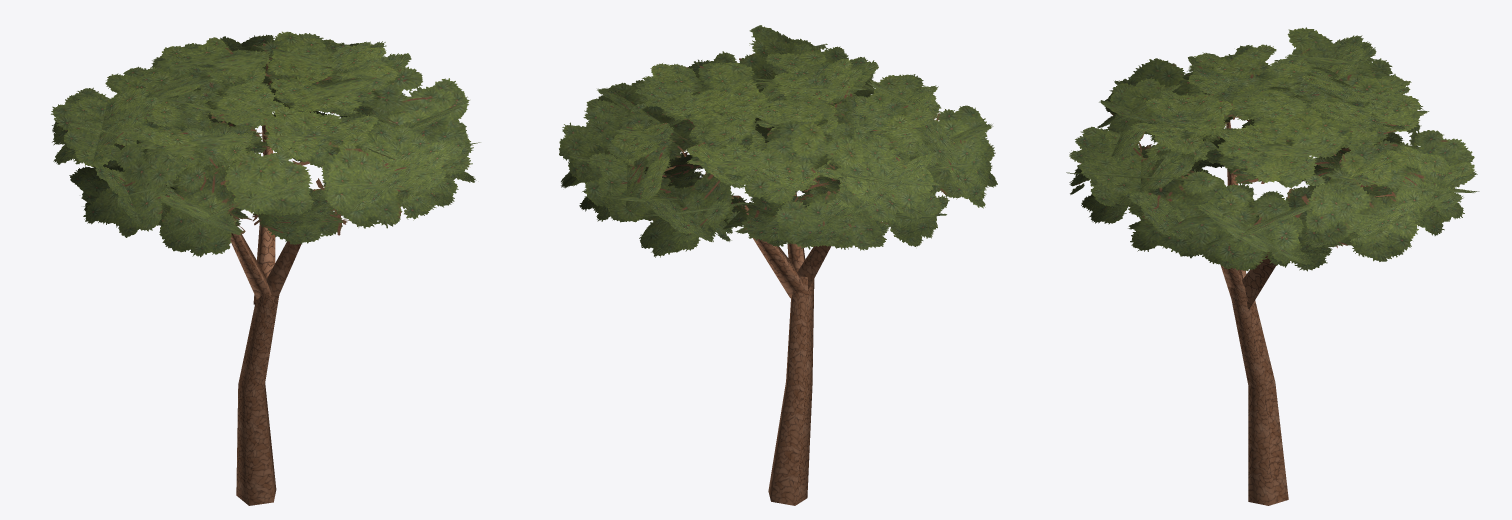
File: stone-pine.glb
3 renders of one model, left to right at view 1: azimuth 30°, elevation 25°; view 2: azimuth 150°, elevation 25°; view 3: azimuth 270°, elevation 25°, orthographic. The views are drawn at different scales.
Visible parts, largest first — view 1: stone_pine_foliage, stone_pine_wood; view 2: stone_pine_foliage, stone_pine_wood; view 3: stone_pine_foliage, stone_pine_wood.
Boxes of the visible parts, box(x1,y1,x2,y2) form: stone_pine_foliage: box(51, 31, 480, 257); stone_pine_wood: box(169, 125, 301, 505); stone_pine_foliage: box(559, 25, 997, 257); stone_pine_wood: box(731, 192, 831, 505); stone_pine_foliage: box(1066, 27, 1479, 271); stone_pine_wood: box(1220, 120, 1393, 505).
Bounding box in the file's own units: 8.3 × 7.9 × 7.81.
2 materials, 2 textured.
